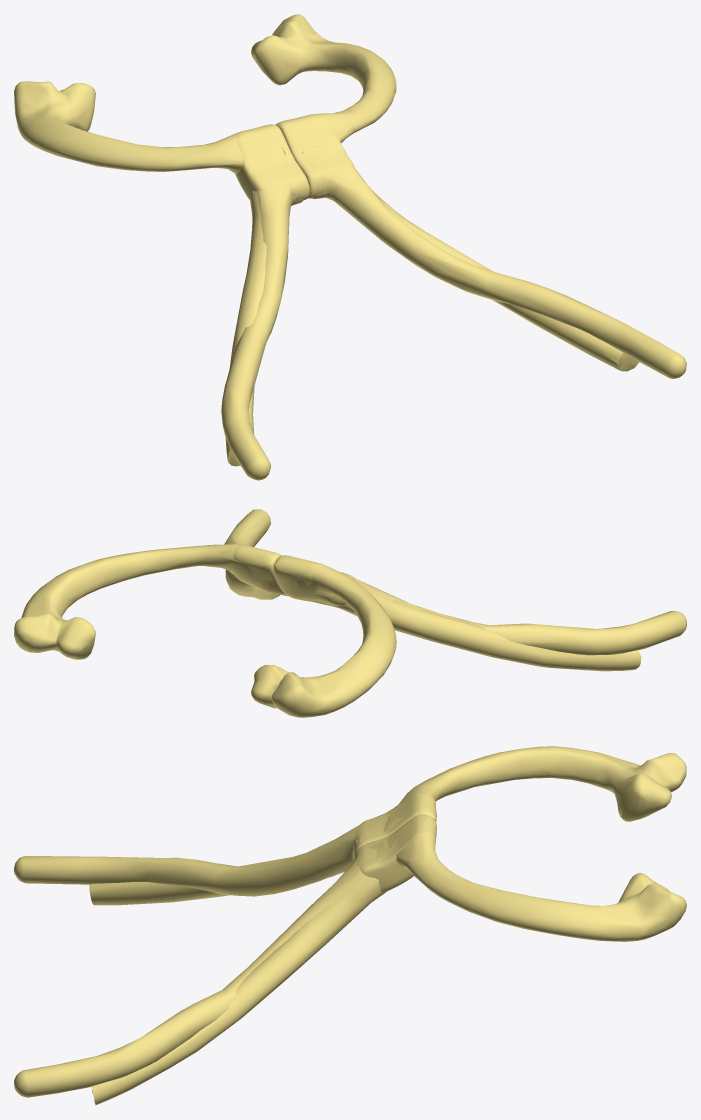
File: via-optica.glb
3 renders of one model, top to bottom at view 1: azimuth 30°, elevation 25°; view 2: azimuth 150°, elevation 25°; view 3: azimuth 270°, elevation 25°, orthographic. The views are drawn at different scales.
Parts seen in each view (by area): view 1: via-optica; view 2: via-optica; view 3: via-optica.
Part boxes in pixels (x1=…): via-optica: x1=14, y1=14, x2=686, y2=480; via-optica: x1=14, y1=509, x2=686, y2=717; via-optica: x1=14, y1=746, x2=686, y2=1105.
Size of the model in its own units: 0.0653 by 0.0257 by 0.0821.
